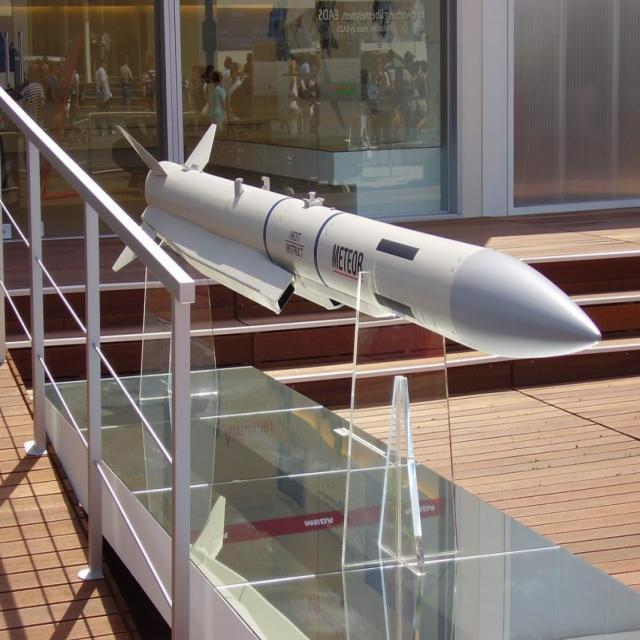missile: (94, 154, 606, 370)
